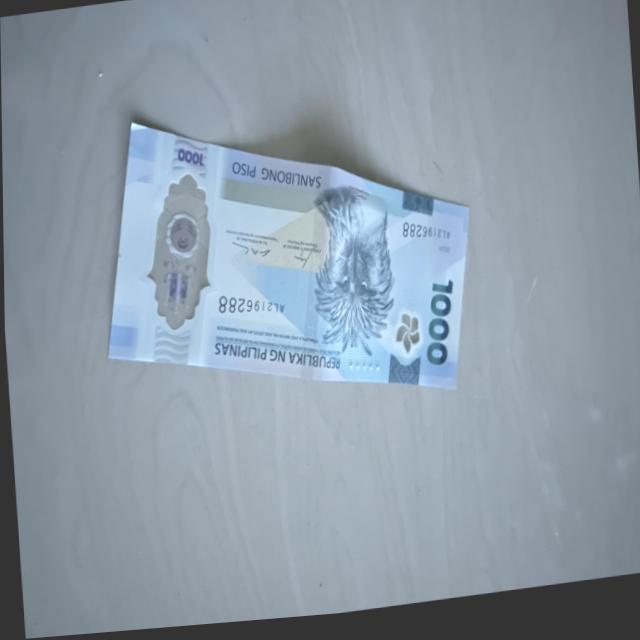clear_window: (132, 167, 224, 337)
eagle: (314, 192, 402, 354)
sampaguita: (392, 317, 424, 359)
